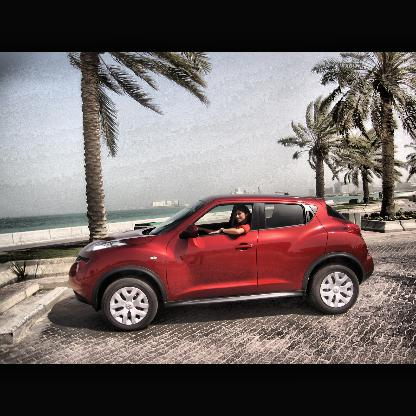Nissan Juke Hatchback 2012: (67, 190, 377, 334)
